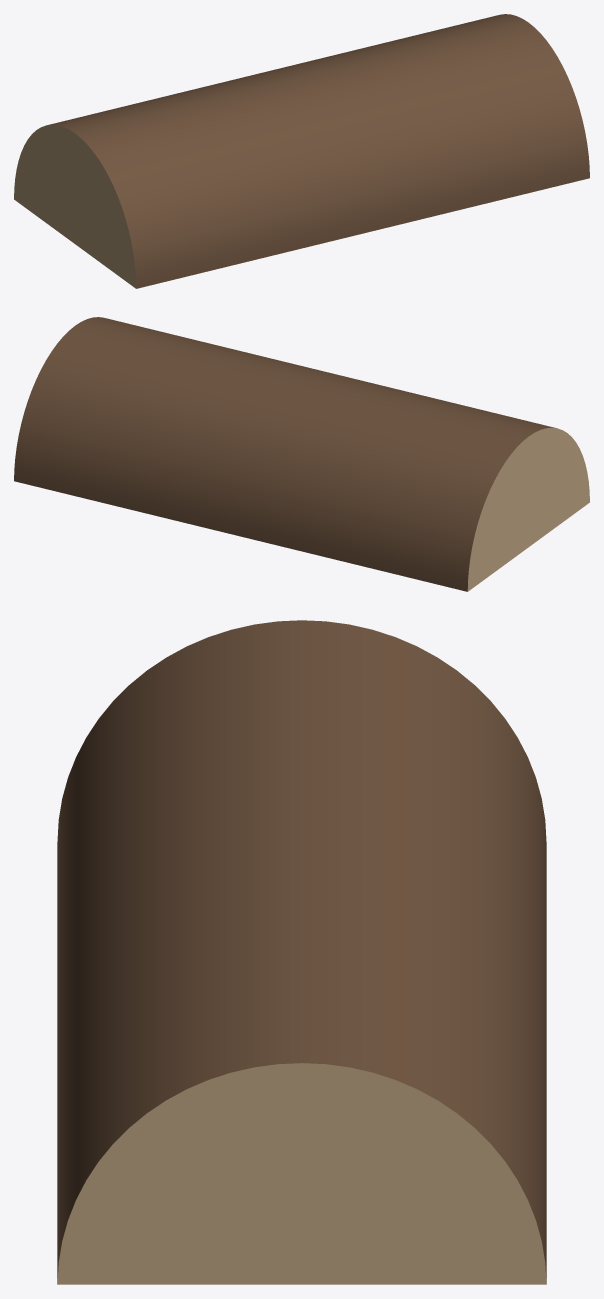
The model's file is SM_RawLog_75_Half.fbx.
The picture shows the model from 3 angles, top to bottom: view 1: azimuth 30°, elevation 25°; view 2: azimuth 150°, elevation 25°; view 3: azimuth 270°, elevation 25°; orthographic projection. The views are drawn at different scales.
Parts seen in each view (by area): view 1: RawLog_75_Half; view 2: RawLog_75_Half; view 3: RawLog_75_Half.
Boxes of the visible parts, x1=… form: RawLog_75_Half: x1=14, y1=14, x2=589, y2=288; RawLog_75_Half: x1=14, y1=317, x2=589, y2=591; RawLog_75_Half: x1=57, y1=620, x2=546, y2=1284.
Size of what is drawn, in the model's own units: 0.75 by 0.175 by 0.35.
